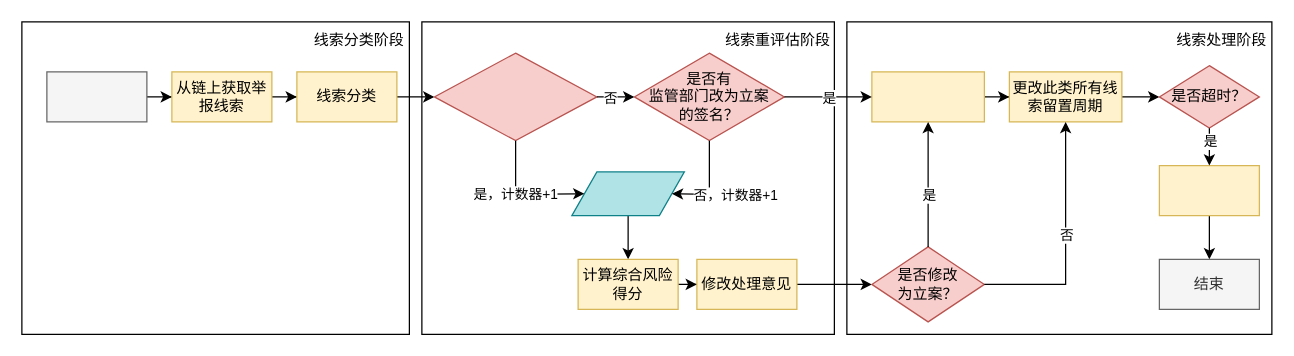
Some shapes in this 1294 by 356 pixel diagram are drawn without their labels. Each missing label, with the centre of its shape:
从链上删除: the point at 1208,190
开始: the point at 96,96
是否为不立案 或暂缓: the point at 515,96
更改链上同类线索属性为立案: the point at 927,96
计数器: the point at 627,193
